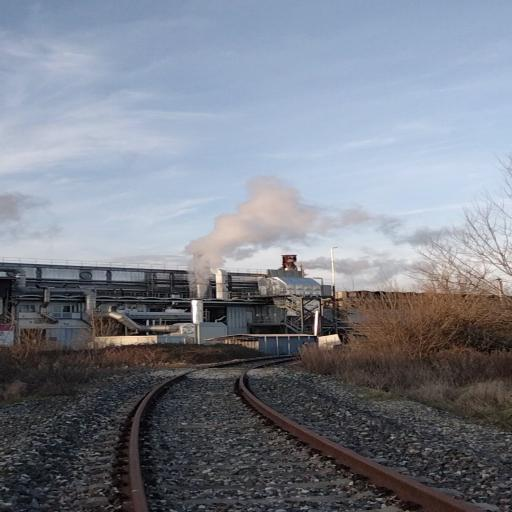leakage: (180, 173, 470, 299), (278, 246, 440, 288)
